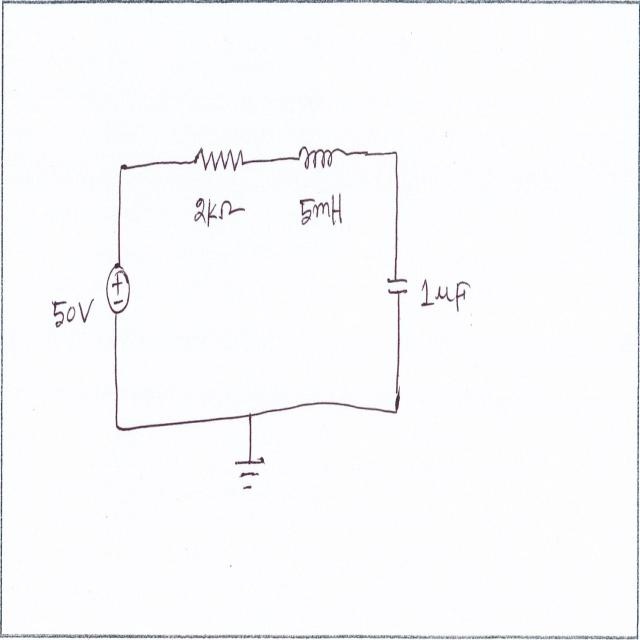capacitor: (382, 273, 414, 299)
ground: (230, 455, 270, 494)
inductor: (296, 143, 344, 173)
resistor: (192, 146, 246, 178)
voltage_source: (104, 258, 132, 318)
